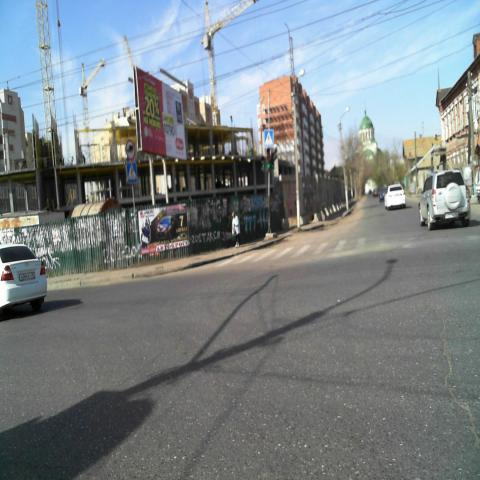3_4_1: (125, 138, 136, 160)
5_19_1: (126, 160, 138, 184), (264, 128, 274, 148)
